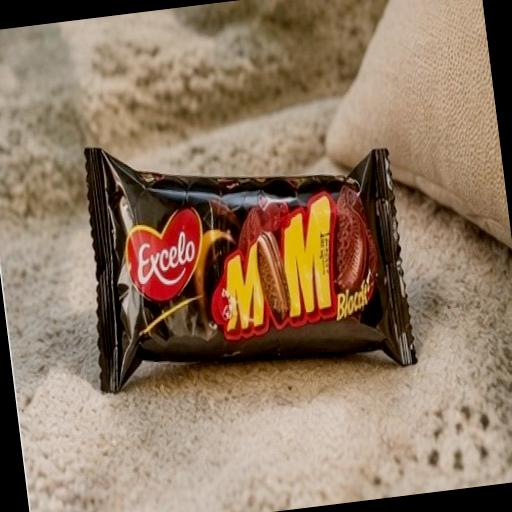MOMO: (54, 73, 476, 454)
